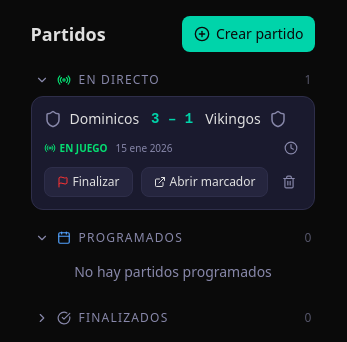
Test: AdminPartidosPage › shows Finalizar confirmation dialog
Expected: the text "Dominicos" is shown, [70,109,139,129]
Click the button "Finalizar": point(88, 182) [44,167,132,197]
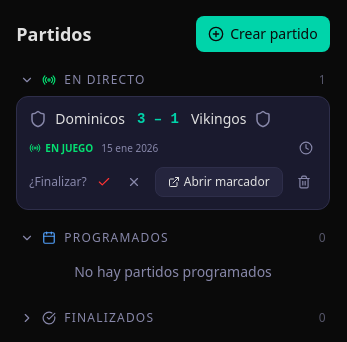
Expected: the text "¿Finalizar?" is shown, [29,174,87,190]
